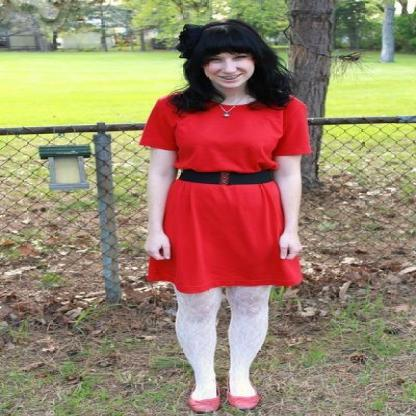dress: (139, 95, 308, 293)
shoe: (189, 387, 258, 415)
